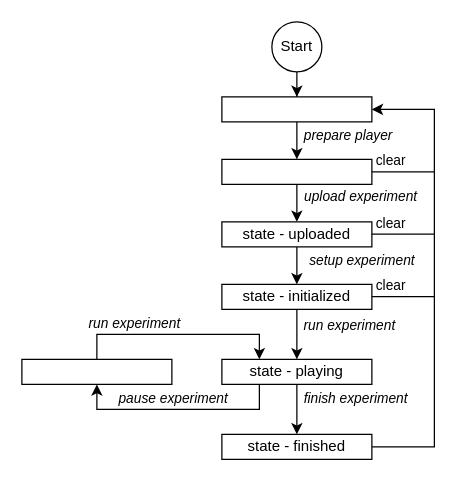
The diagram is 466 pixels wide and 481 high, and some of its shapes have lost their labels. Each missing label, with the box of its shape:
player prepared: (221, 158, 372, 184)
state - paused: (21, 358, 172, 384)
state - ready/cleared: (221, 96, 372, 122)
